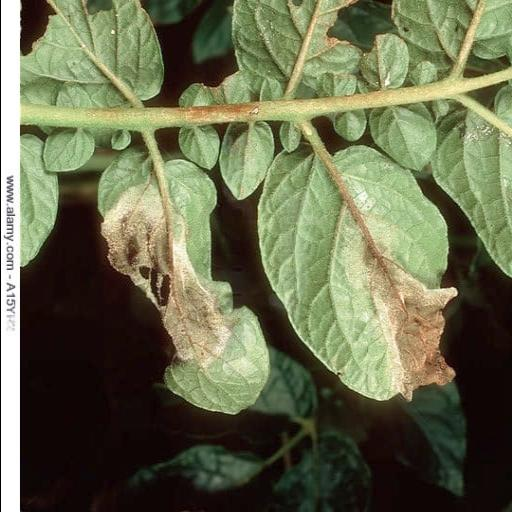disease_tomato: (256, 146, 460, 402), (98, 148, 270, 415)
